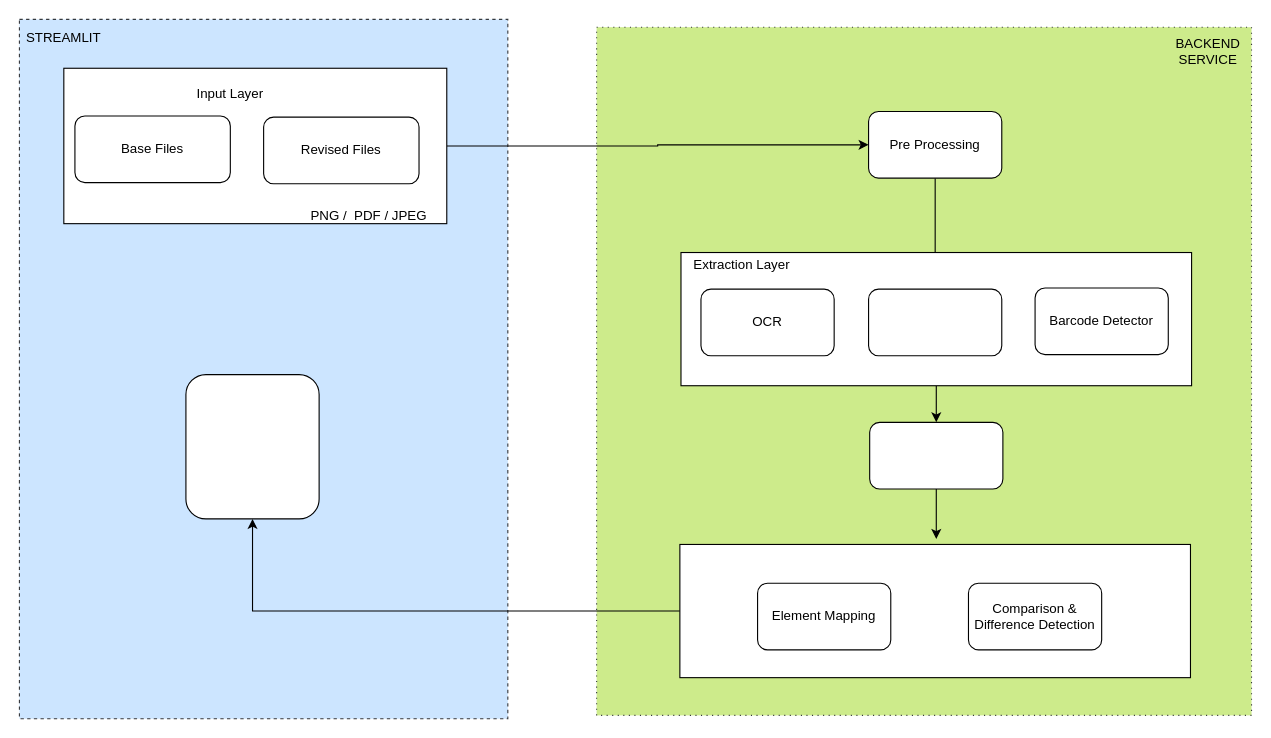
The diagram is 1271 pixels wide and 738 high, and some of its shapes have lost their labels. Here are the shapes that lost their labels. From the top down, the box of each, then its label:
(867, 288, 1002, 356): OpenCV
(185, 374, 319, 519): Final detected outcomes
(869, 421, 1003, 489): Post Processing
